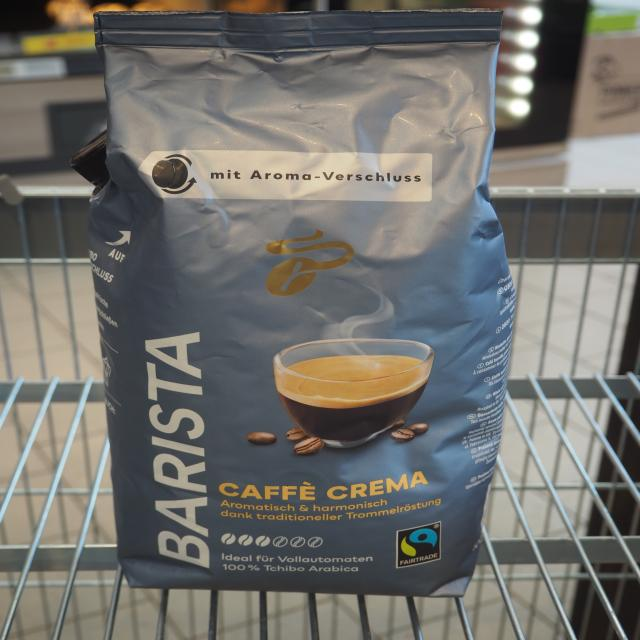Barista CC: (56, 4, 520, 600)
